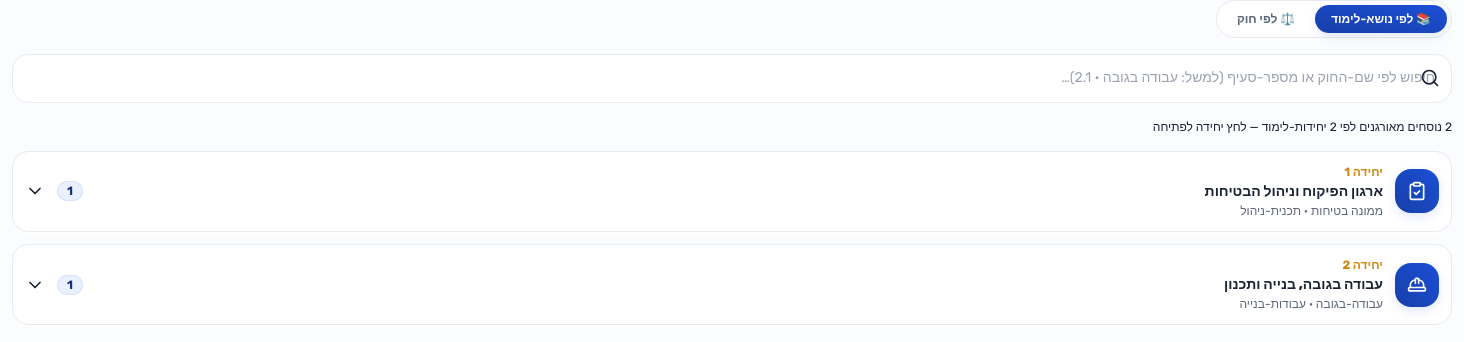
Scenario: LegislationLibrary — תצוגת-חוק + קישורים + חיפוש › חיפוש ללא-תוצאות מציג empty-state
The width and height of the screenshot is (1464, 342).
Type "זזזזז" into the search field named "חיפוש חוק או תקנה" at (732,78), box 12,54 -> 1452,103
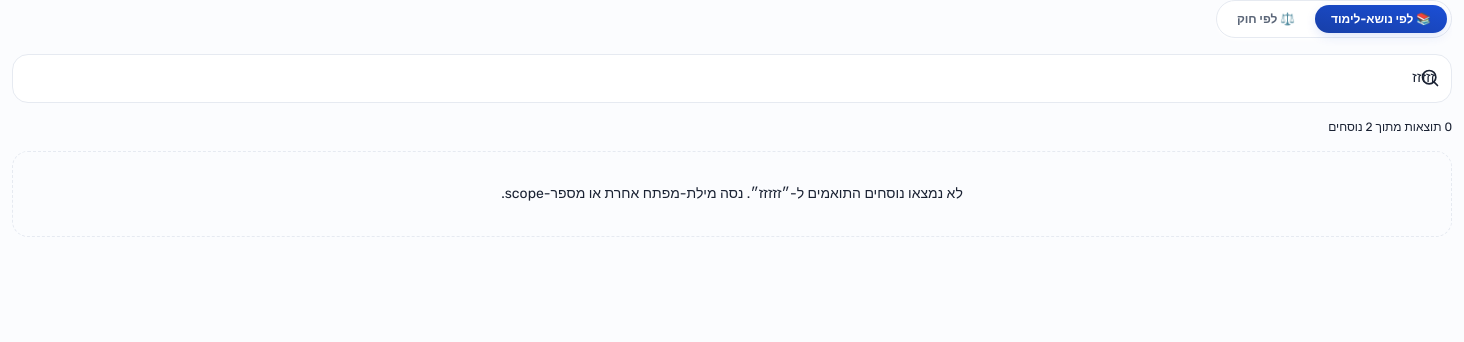
Expected: the text "לא נמצאו נוסחים" is shown, 782,185 -> 963,202
